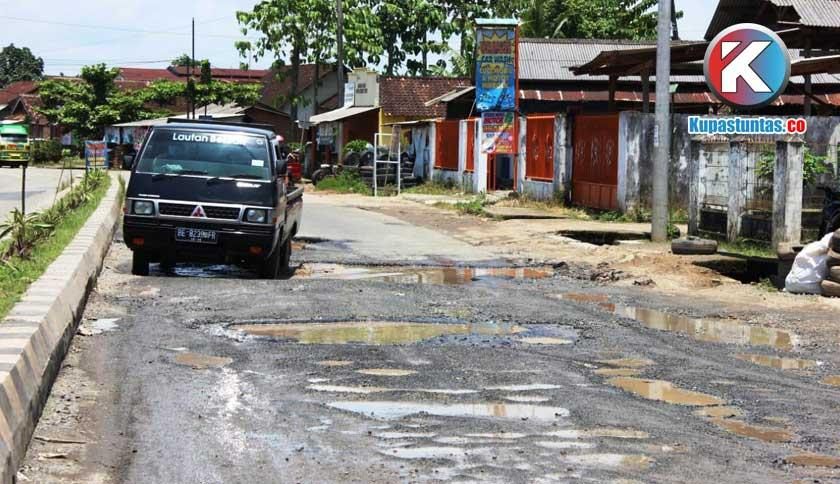Pothole: (305, 330, 672, 484), (570, 330, 821, 484), (568, 285, 840, 399), (275, 239, 691, 313), (202, 290, 619, 362), (123, 328, 239, 403), (78, 298, 148, 362)
